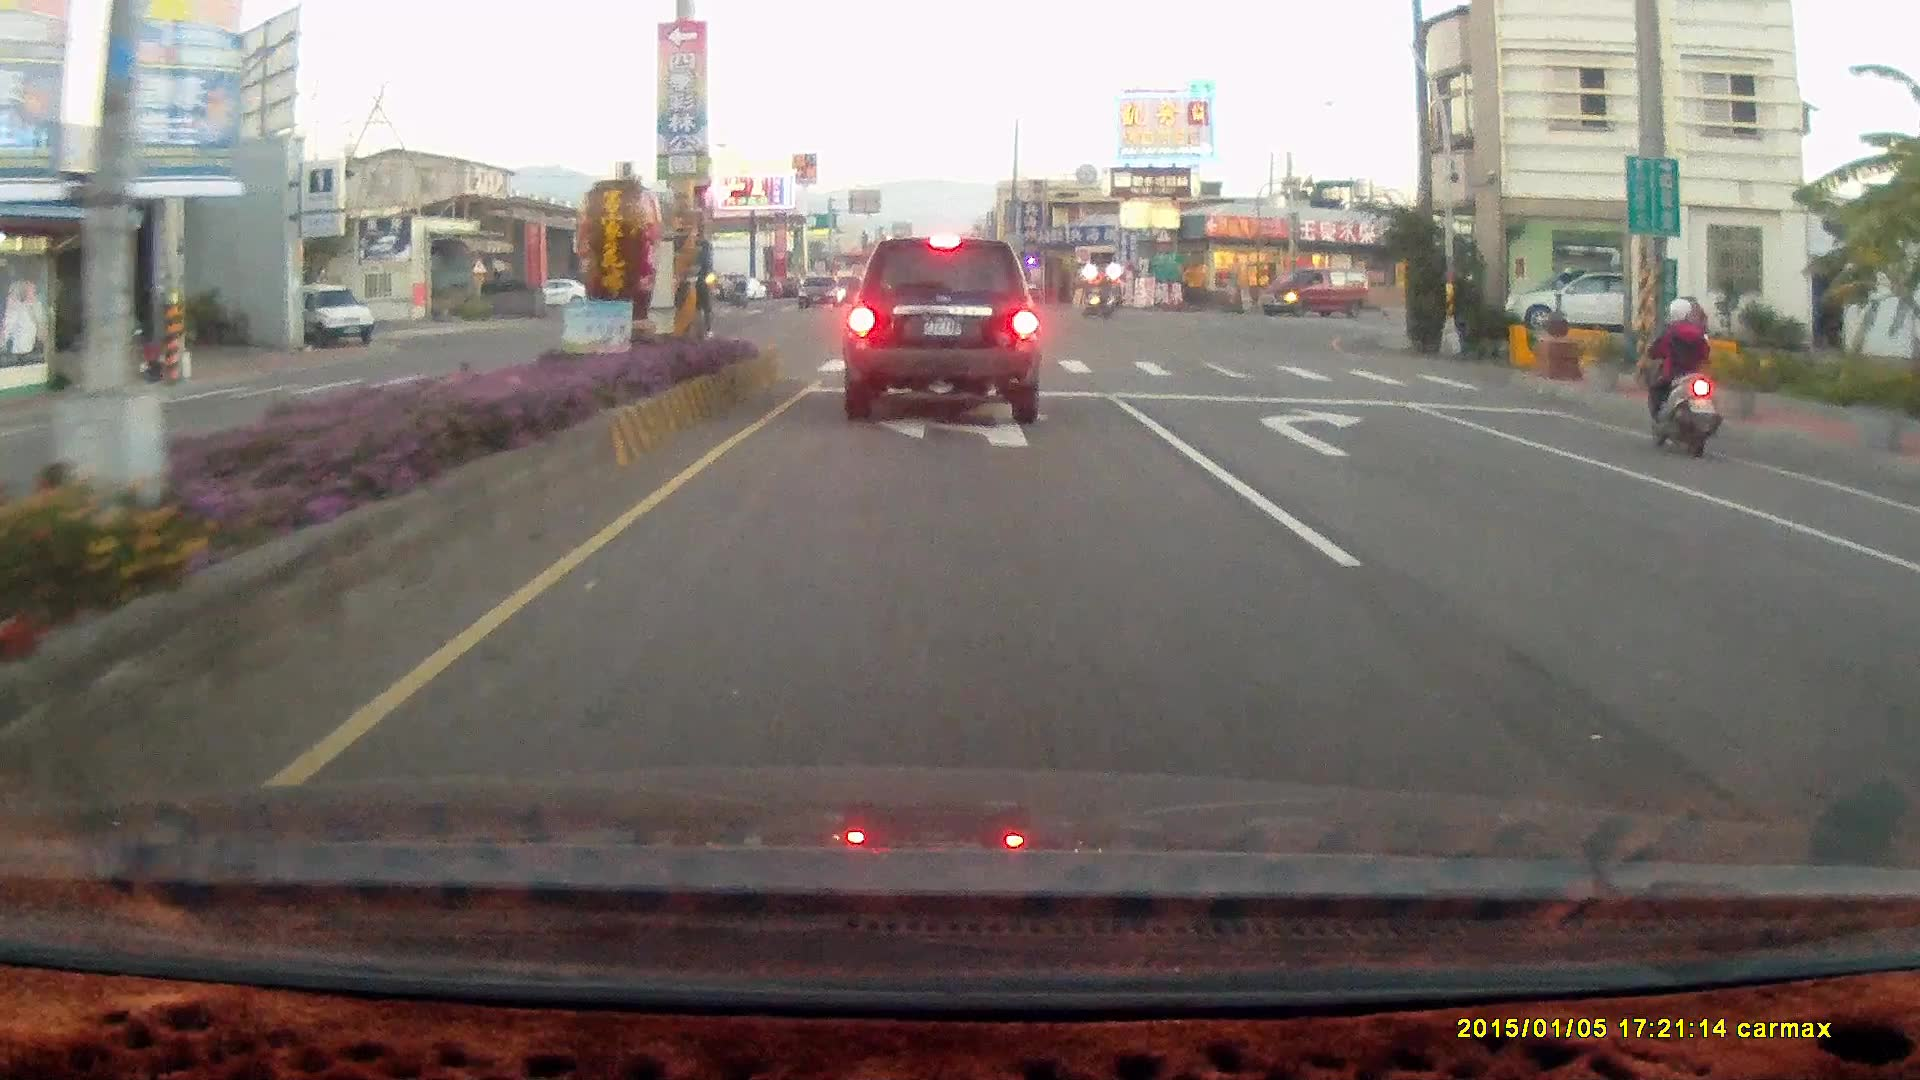rider: (1642, 294, 1720, 459), (1078, 269, 1120, 319)
vehicle: (841, 237, 1041, 424), (1502, 266, 1669, 334), (1896, 493, 1920, 836), (1510, 273, 1637, 335), (1883, 528, 1920, 690), (286, 282, 378, 347), (1258, 267, 1371, 317), (1258, 268, 1368, 318), (924, 274, 1035, 319)
